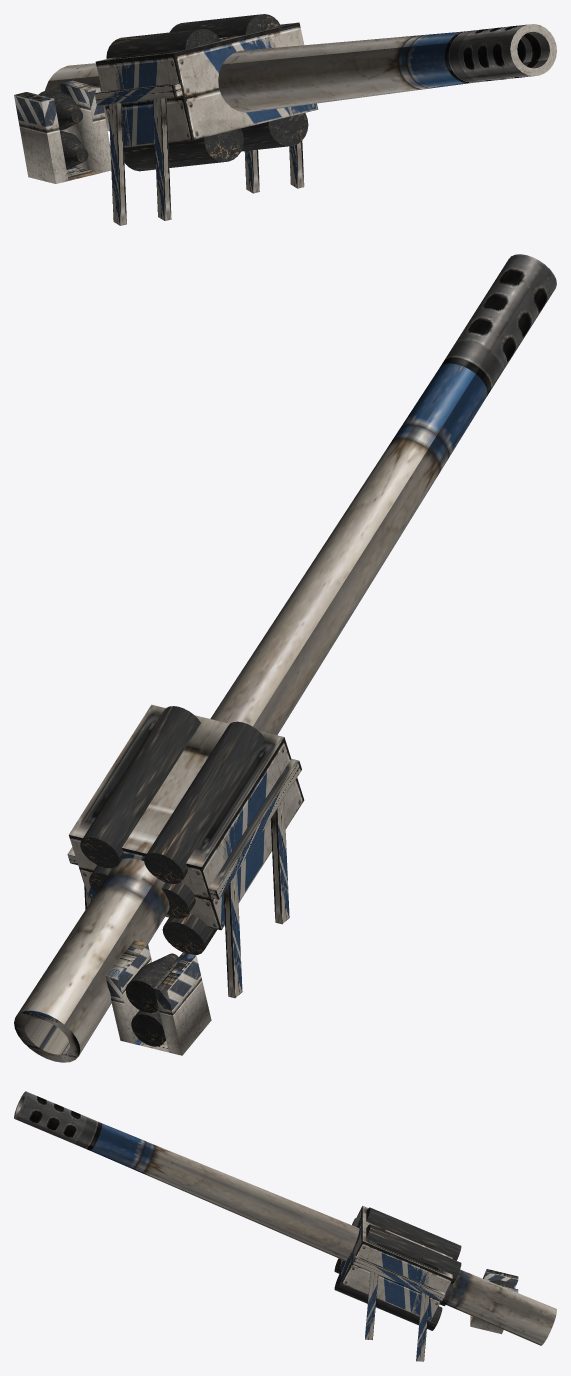
The model's file is titan_tower_02.dae.
The picture shows the model from 3 angles, top to bottom: view 1: azimuth 30°, elevation 25°; view 2: azimuth 150°, elevation 25°; view 3: azimuth 270°, elevation 25°; orthographic projection. The views are drawn at different scales.
Parts seen in each view (by area): view 1: titan_tower_02; view 2: titan_tower_02; view 3: titan_tower_02.
Part boxes in pixels (x1,y1,x2,y2): titan_tower_02: (14, 14, 556, 225); titan_tower_02: (14, 254, 556, 1062); titan_tower_02: (14, 1091, 556, 1361).
Size of the model in its own units: 3.36 by 17.37 by 8.87.
